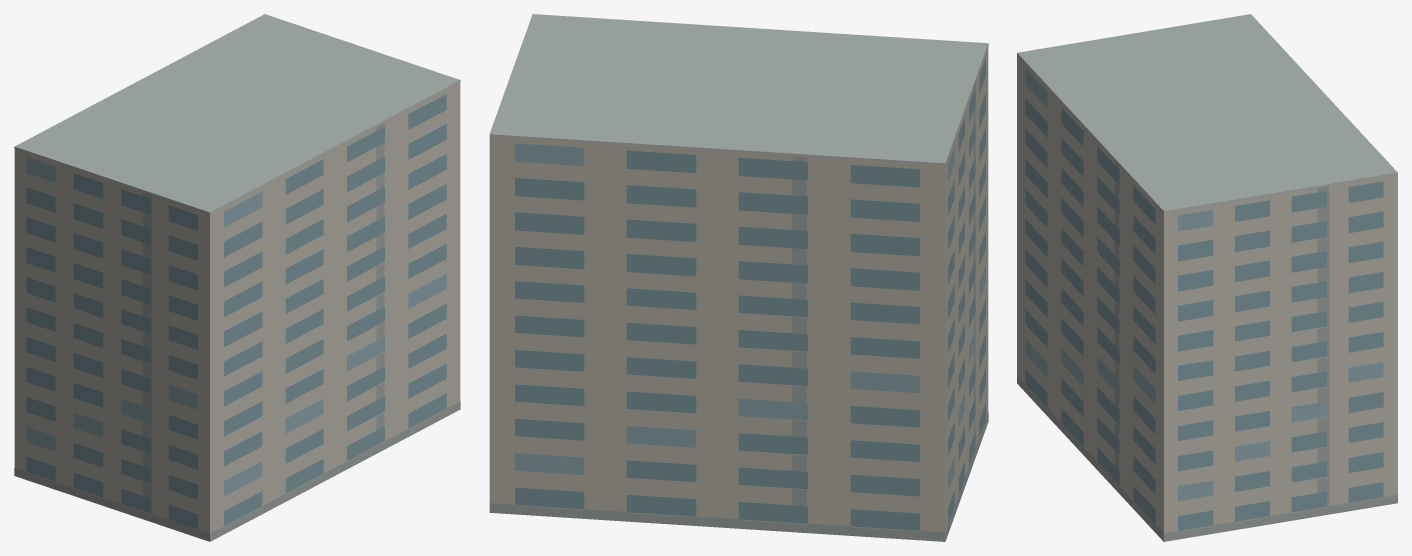
File: residential-3e845d3f-19d3-4d42-ae00-6c855fd7afc2.glb
The picture shows the model from 3 angles, left to right: view 1: azimuth 30°, elevation 25°; view 2: azimuth 150°, elevation 25°; view 3: azimuth 270°, elevation 25°; orthographic projection. The views are drawn at different scales.
Visible parts, largest first — view 1: residential-3e845d3f-19d3-4d42-ae00-6c855fd7afc2.tmp; view 2: residential-3e845d3f-19d3-4d42-ae00-6c855fd7afc2.tmp; view 3: residential-3e845d3f-19d3-4d42-ae00-6c855fd7afc2.tmp.
Part boxes in pixels (bbox=[...]): residential-3e845d3f-19d3-4d42-ae00-6c855fd7afc2.tmp: bbox=[14, 14, 460, 541]; residential-3e845d3f-19d3-4d42-ae00-6c855fd7afc2.tmp: bbox=[489, 14, 988, 541]; residential-3e845d3f-19d3-4d42-ae00-6c855fd7afc2.tmp: bbox=[1017, 14, 1397, 541].
Bounding box in the file's own units: 44.77 × 35 × 36.54.
